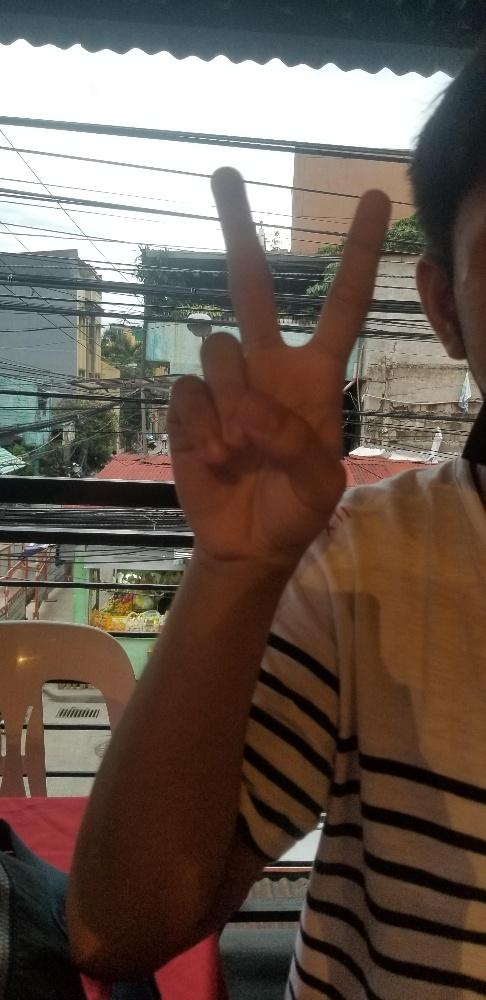v: (168, 165, 392, 557)
